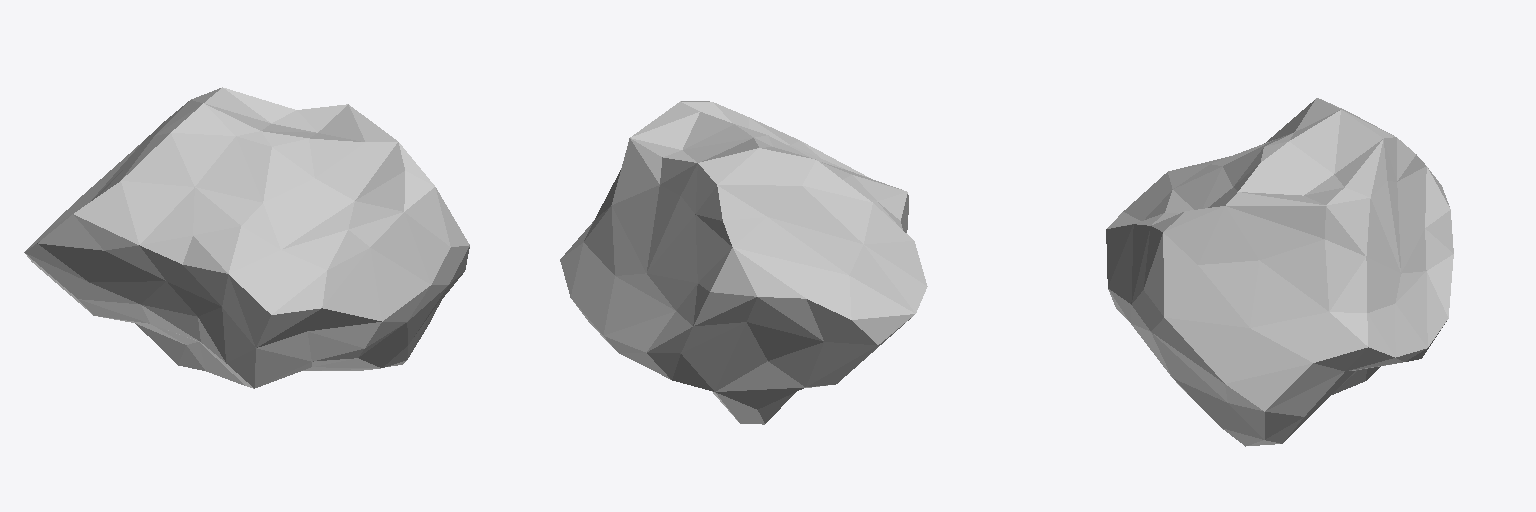
Rendered from Rock1_Low.obj.
3 views of the same model, side by side, from view 1: azimuth 30°, elevation 25°; view 2: azimuth 150°, elevation 25°; view 3: azimuth 270°, elevation 25° (orthographic).
Visible parts, largest first — view 1: Rock_Low_Rock1_Low; view 2: Rock_Low_Rock1_Low; view 3: Rock_Low_Rock1_Low.
Boxes of the visible parts, <box> form: Rock_Low_Rock1_Low: <box>24,87,469,388</box>; Rock_Low_Rock1_Low: <box>560,101,927,424</box>; Rock_Low_Rock1_Low: <box>1106,98,1453,446</box>.
Size of the model in its own units: 2.27 by 1.55 by 1.8.